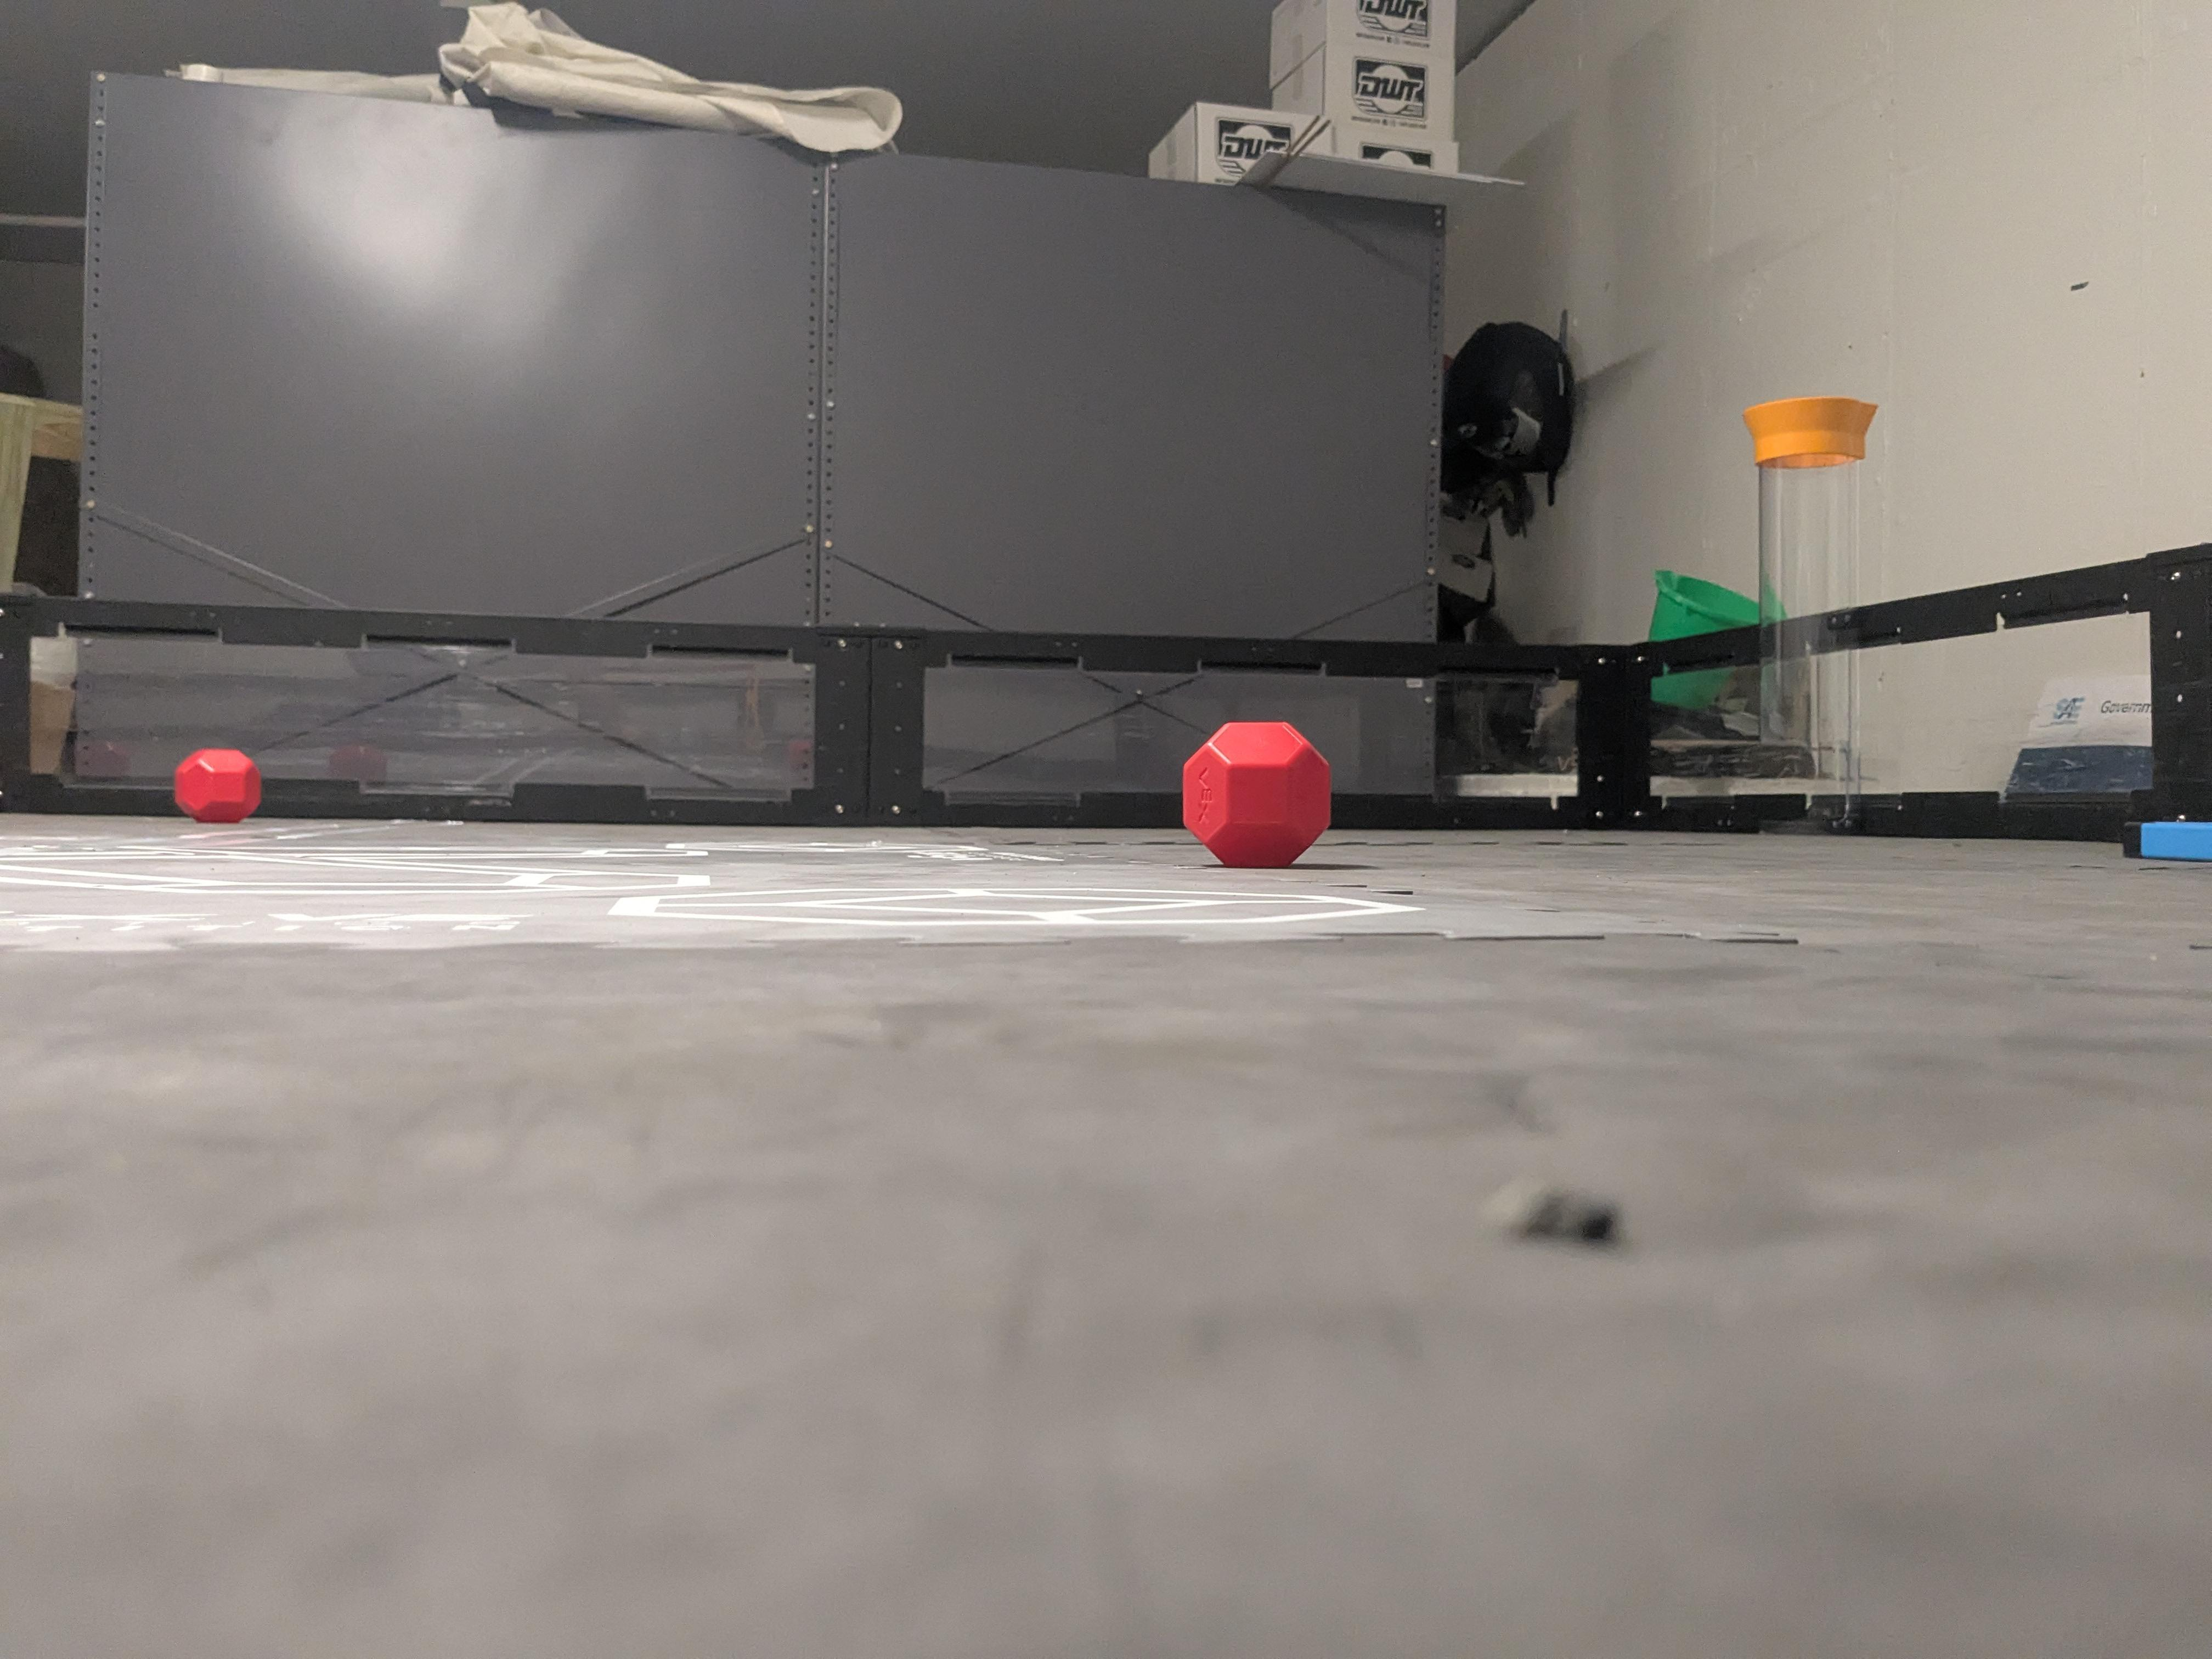Vex-Pieces-RED: (1181, 723, 1327, 868), (174, 748, 261, 823)
